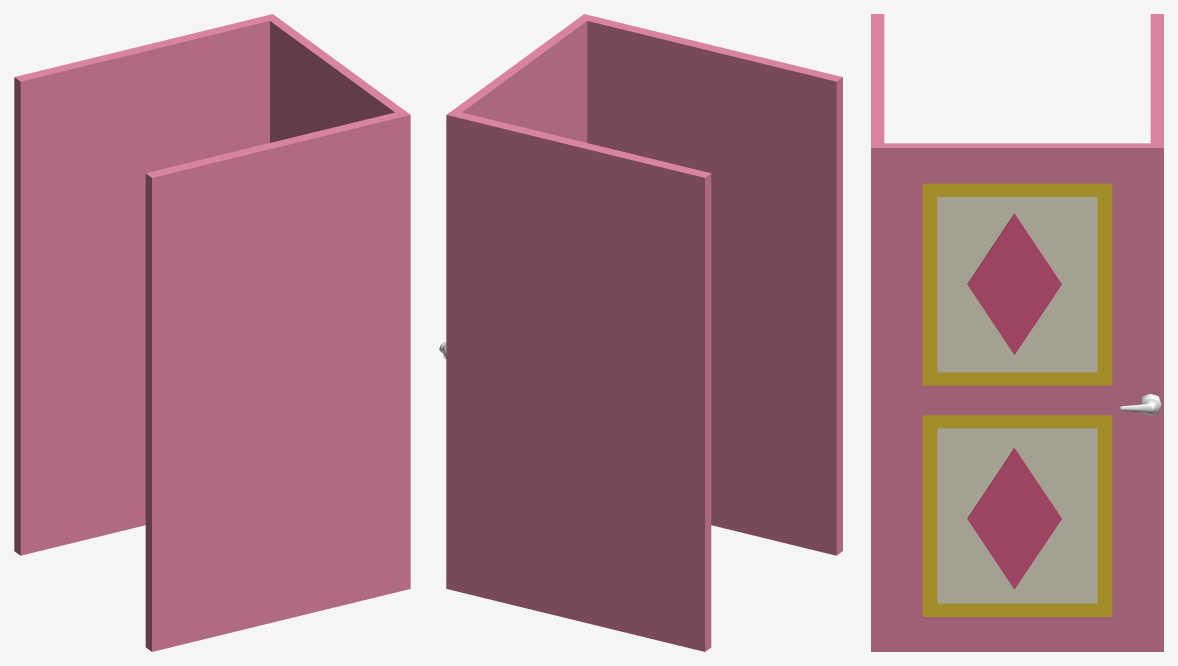
File: MXC_Restroom_StallFemale_Lv1.fbx
3 views of the same model, side by side, from view 1: azimuth 30°, elevation 25°; view 2: azimuth 150°, elevation 25°; view 3: azimuth 270°, elevation 25° (orthographic). The views are drawn at different scales.
Parts seen in each view (by area): view 1: MXC_Restroom_StallFemale_Lv1; view 2: MXC_Restroom_StallFemale_Lv1; view 3: MXC_Restroom_StallFemale_Lv1.
Boxes of the visible parts, box(x1,y1,x2,y2) form: MXC_Restroom_StallFemale_Lv1: box(14, 14, 410, 651); MXC_Restroom_StallFemale_Lv1: box(439, 14, 842, 651); MXC_Restroom_StallFemale_Lv1: box(871, 14, 1163, 651).
Size of the model in its own units: 227 by 380 by 200.
